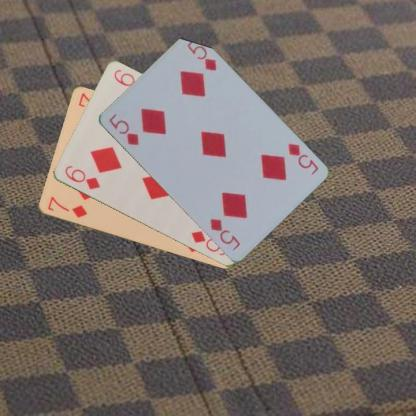5d: (106, 111, 140, 147), (285, 140, 319, 176)
6d: (62, 163, 101, 191)
7d: (44, 194, 88, 220)
